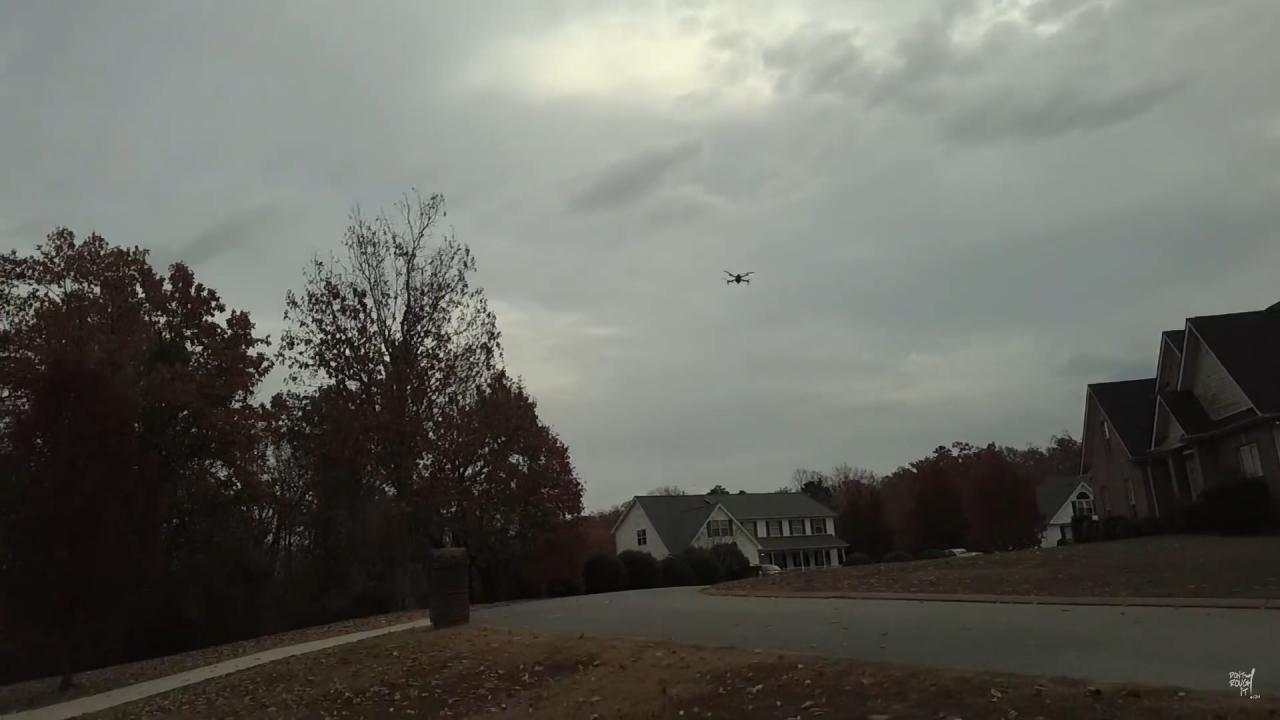Drone: (712, 260, 762, 296)
